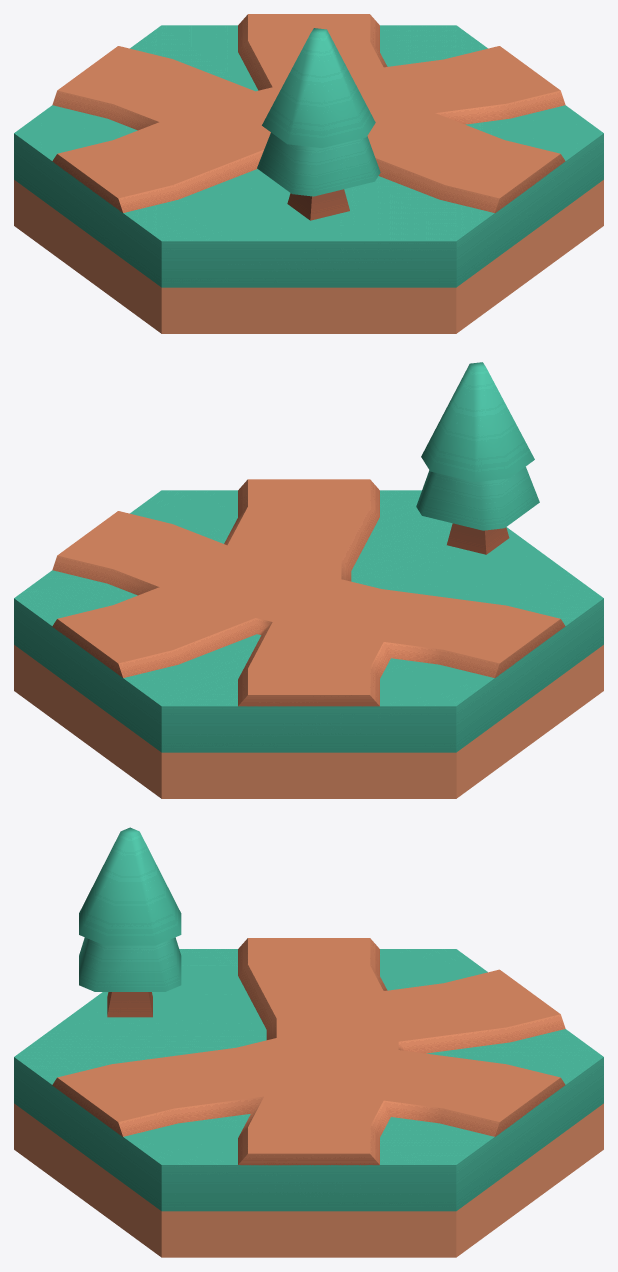
Rendered from grass-path-intersectionG-tree.glb.
3 renders of one model, top to bottom at view 1: azimuth 30°, elevation 25°; view 2: azimuth 150°, elevation 25°; view 3: azimuth 270°, elevation 25°, orthographic.
Visible parts, largest first — view 1: grass, path-intersectionG, unit-tree; view 2: grass, path-intersectionG, unit-tree; view 3: grass, path-intersectionG, unit-tree.
Boxes of the visible parts, box(x1,y1,x2,y2) form: grass: box(14, 25, 603, 333); path-intersectionG: box(52, 14, 565, 213); unit-tree: box(257, 28, 380, 220); grass: box(14, 490, 603, 798); path-intersectionG: box(52, 479, 565, 706); unit-tree: box(416, 362, 539, 554); grass: box(14, 949, 603, 1257); path-intersectionG: box(52, 938, 565, 1165); unit-tree: box(79, 827, 181, 1017).
Size of the model in its own units: 1 by 0.603 by 1.15.
Materials: 1 (1 with a texture image).
